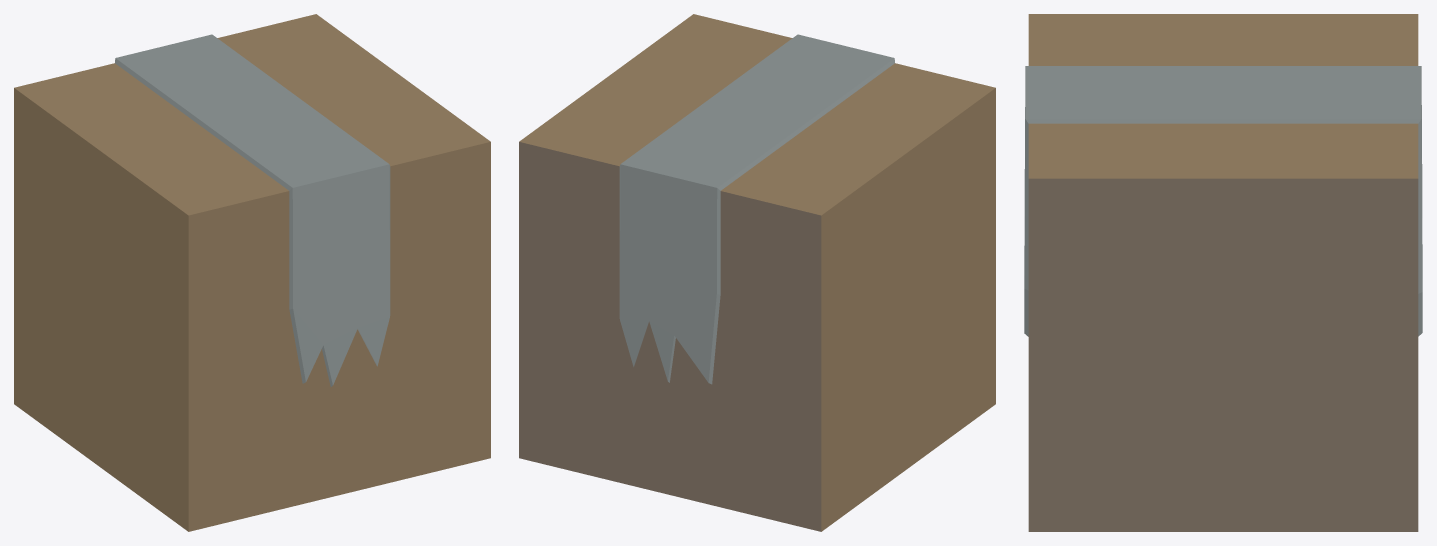
3 renders of one model, left to right at view 1: azimuth 30°, elevation 25°; view 2: azimuth 150°, elevation 25°; view 3: azimuth 270°, elevation 25°, orthographic. The views are drawn at different scales.
Visible parts, largest first — view 1: BOX; view 2: BOX; view 3: BOX.
Boxes of the visible parts, box(x1,y1,x2,y2) form: BOX: box(14, 14, 490, 531); BOX: box(519, 14, 995, 531); BOX: box(1024, 14, 1422, 531).
Bounding box in the file's own units: 0.7 × 0.708 × 0.715.
